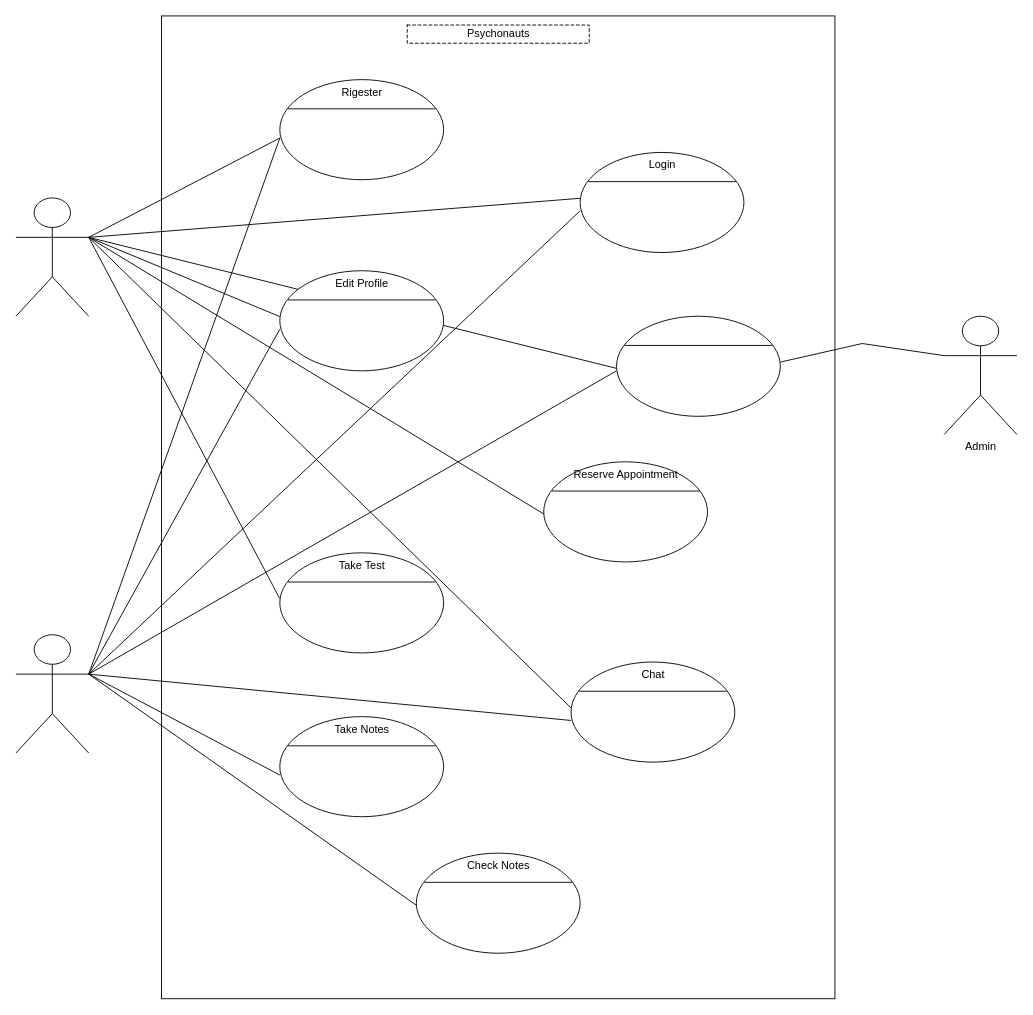
Image size: 1033x1015. Some labels were removed from this diagram. The centre of each missing label's shape, as x and y in pixels:
"Doctor" goes at pixel 52 693.
"Patient" goes at pixel 52 256.
"Send Feedback" goes at pixel 698 365.
